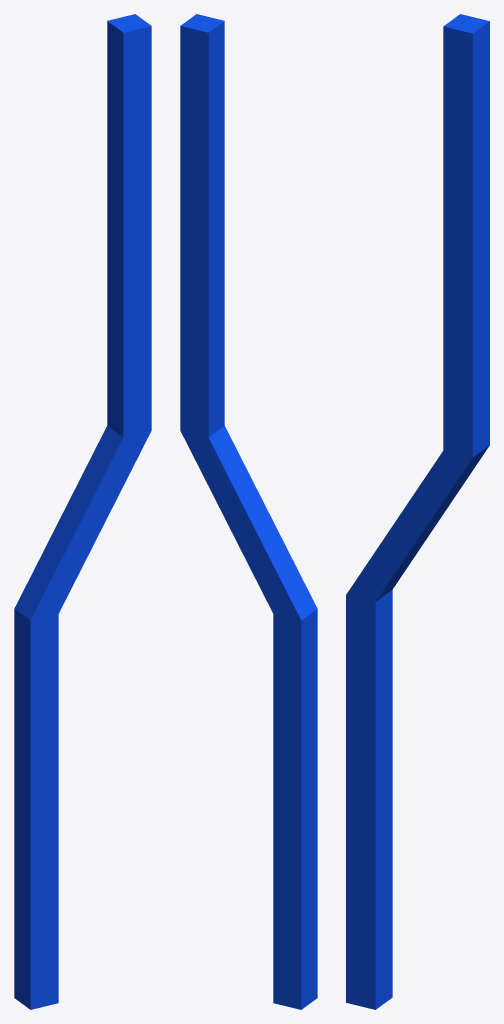
File: WallLightOffice.FBX
The picture shows the model from 3 angles, left to right: view 1: azimuth 30°, elevation 25°; view 2: azimuth 150°, elevation 25°; view 3: azimuth 330°, elevation 25°; orthographic projection. The views are drawn at different scales.
Visible parts, largest first — view 1: WallLightOffice; view 2: WallLightOffice; view 3: WallLightOffice.
Boxes of the visible parts, x1,y1,x2,y2 form: WallLightOffice: [14, 14, 151, 1009]; WallLightOffice: [180, 14, 317, 1009]; WallLightOffice: [346, 14, 489, 1009].
Size of the model in its own units: 42.95 by 10 by 324.
